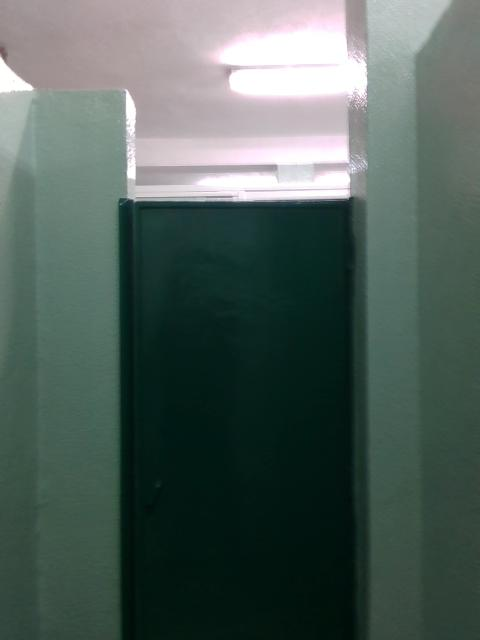closed_door: (118, 202, 353, 638)
